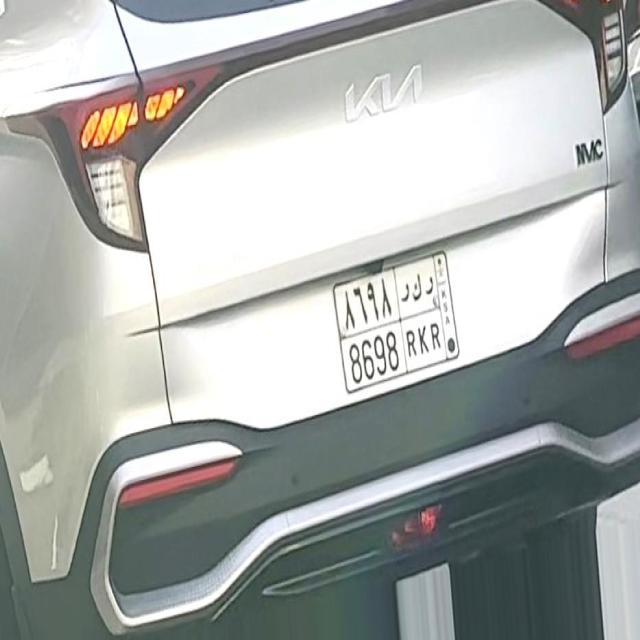Car-plate: (321, 234, 477, 410)
